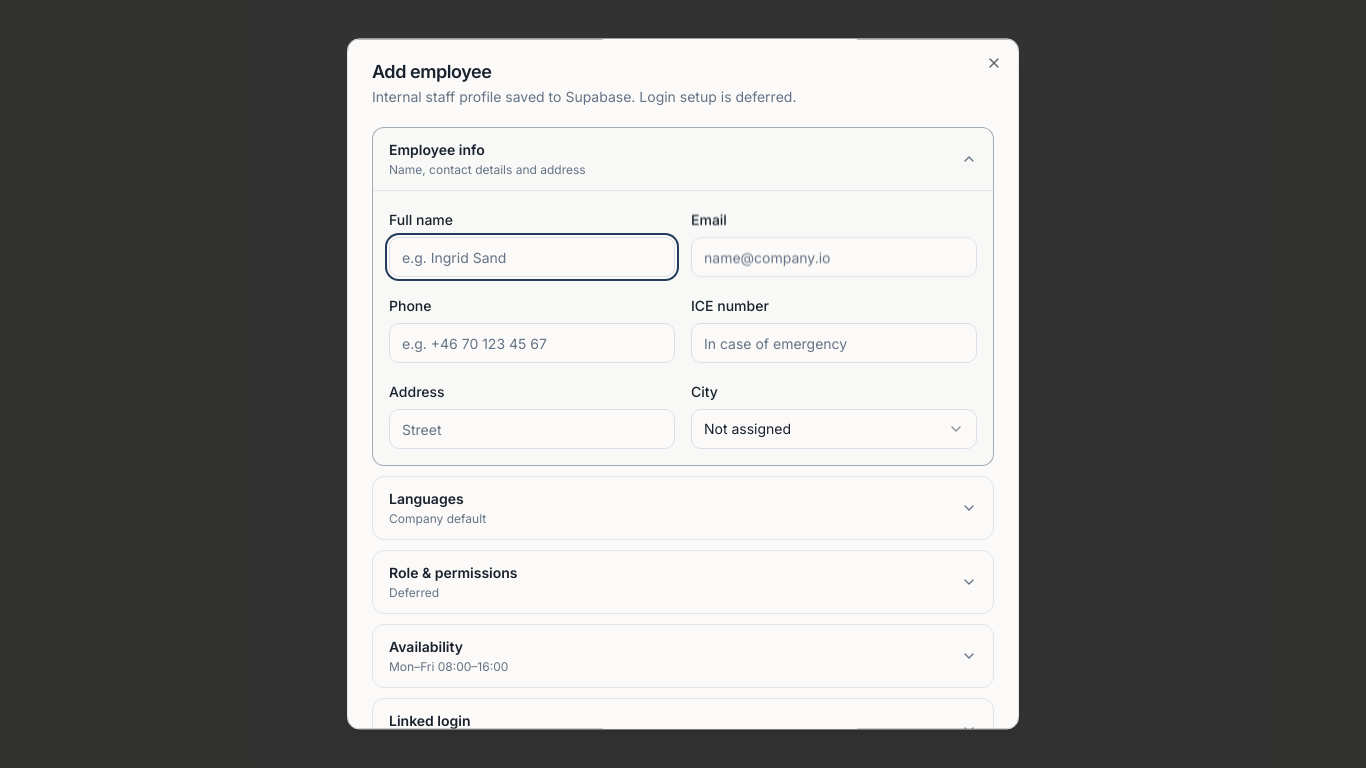
Test case: EmployeeDialog EMP-A1 submit path › fails closed when company context is missing
This screenshot has width=1366, height=768.
Type "Nora Nyberg" into the field labelled "Full name" at (532, 257), box [389, 237, 675, 277]
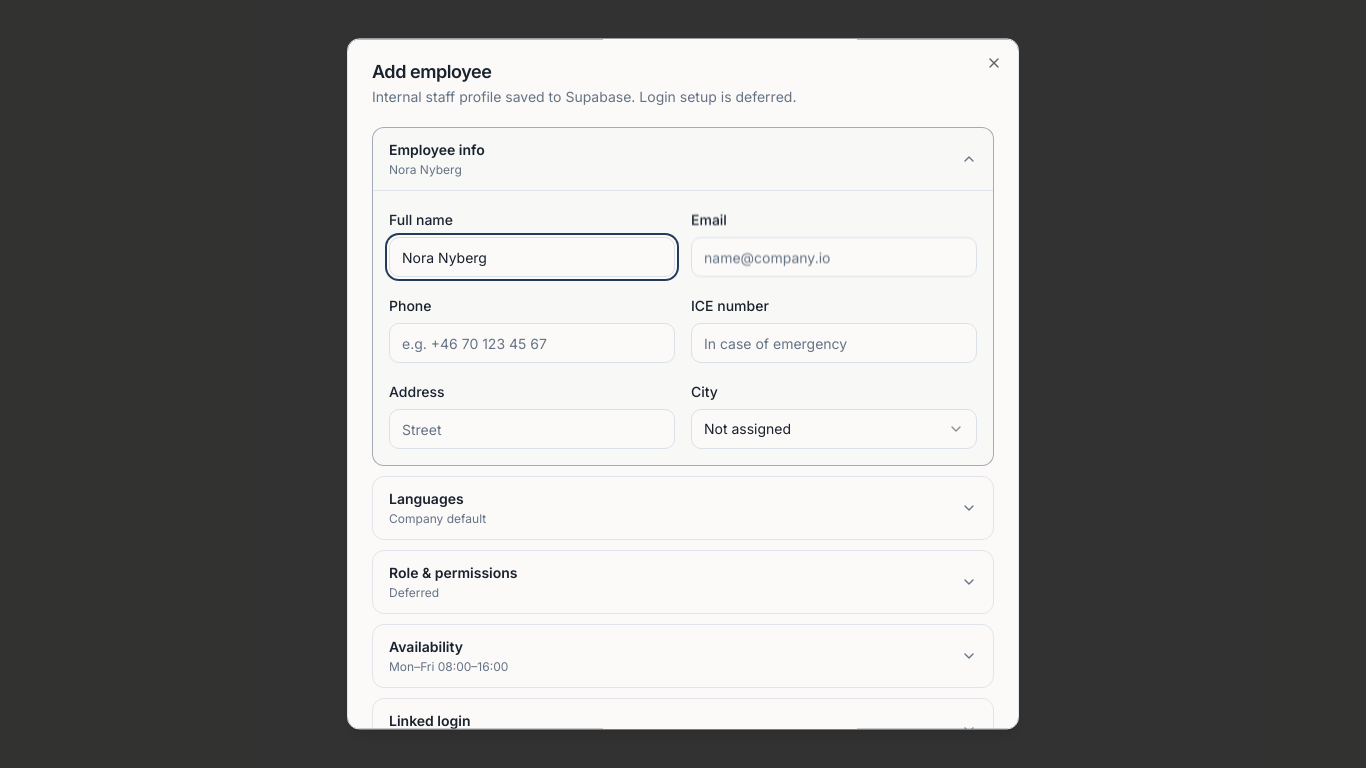
Type "nora@example.com" into the field labelled "Email" at (834, 257), box [691, 237, 977, 277]
(page scrolled)
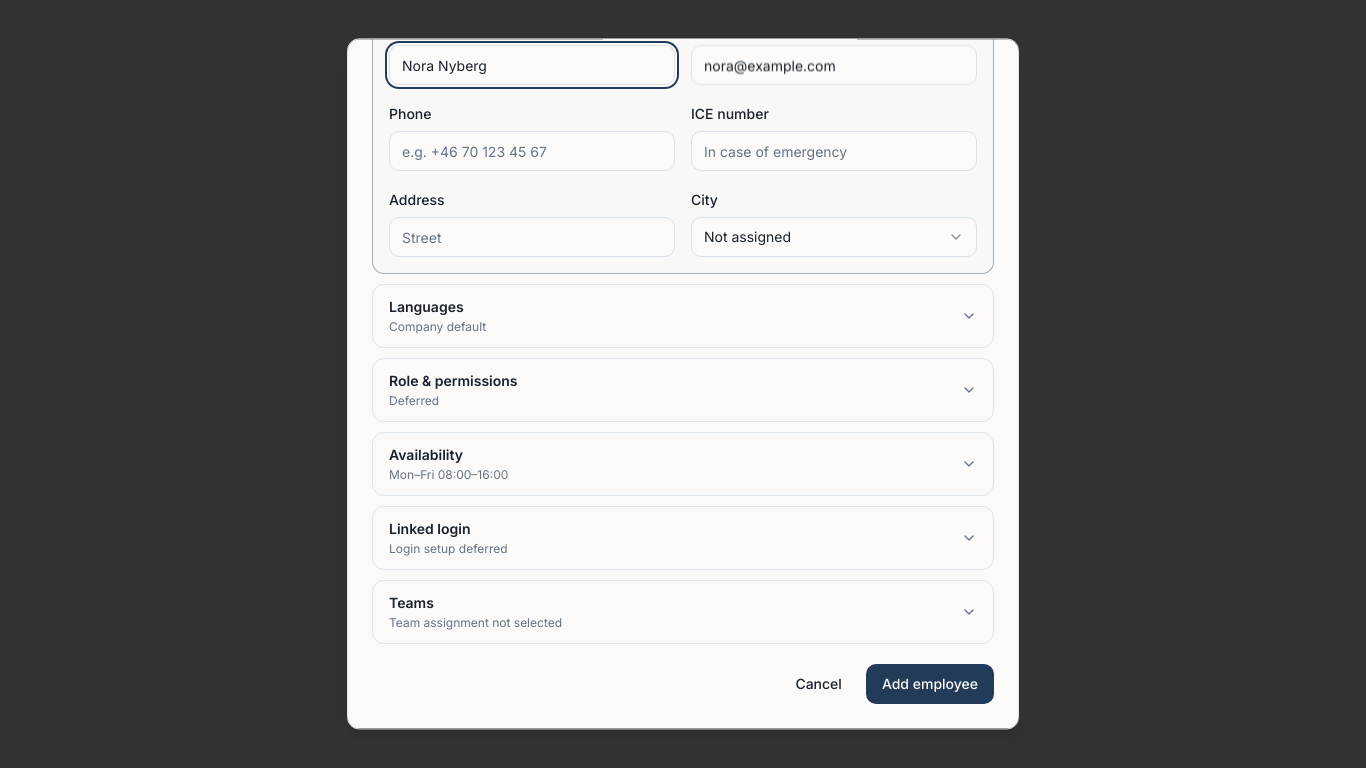
Click the button "Add employee" at (930, 684), box [866, 664, 994, 704]
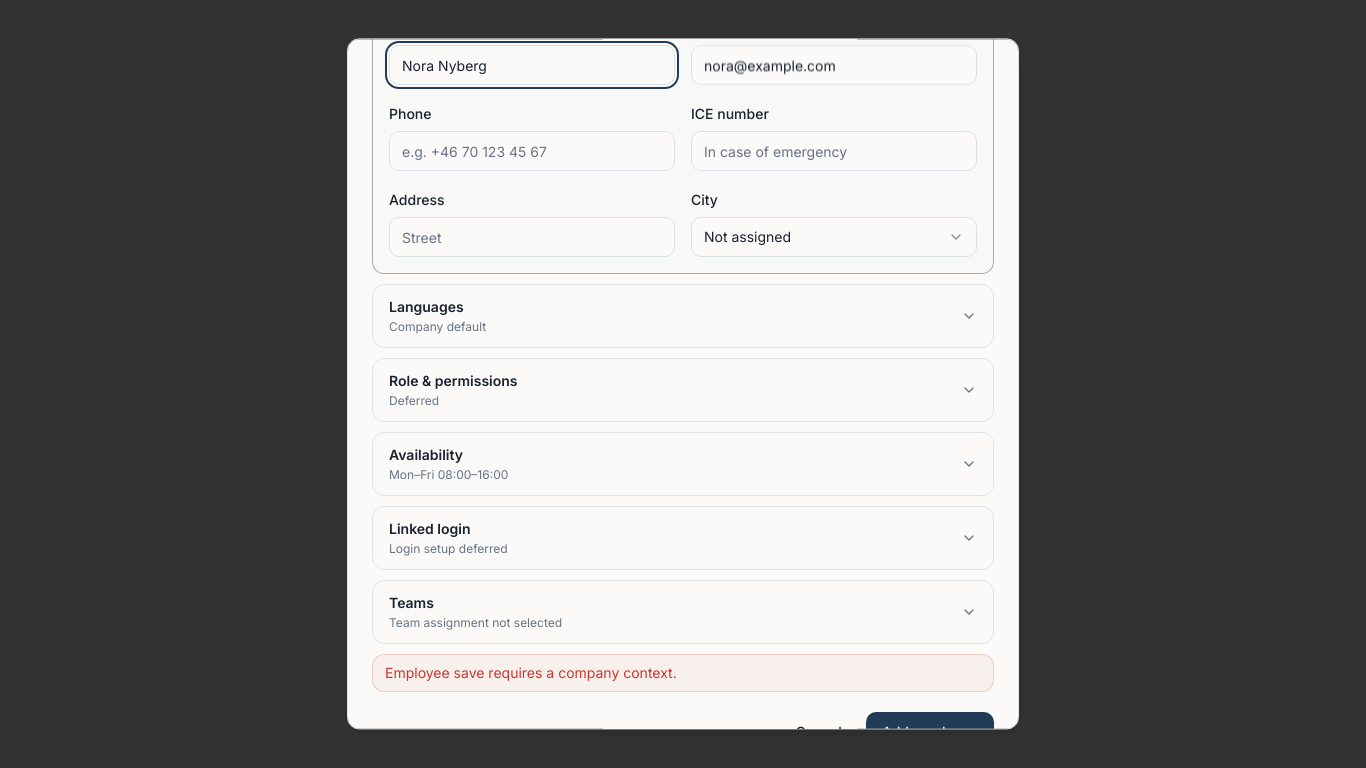
Result: the text "Employee save requires a company context." is shown at [372, 654, 994, 692]
